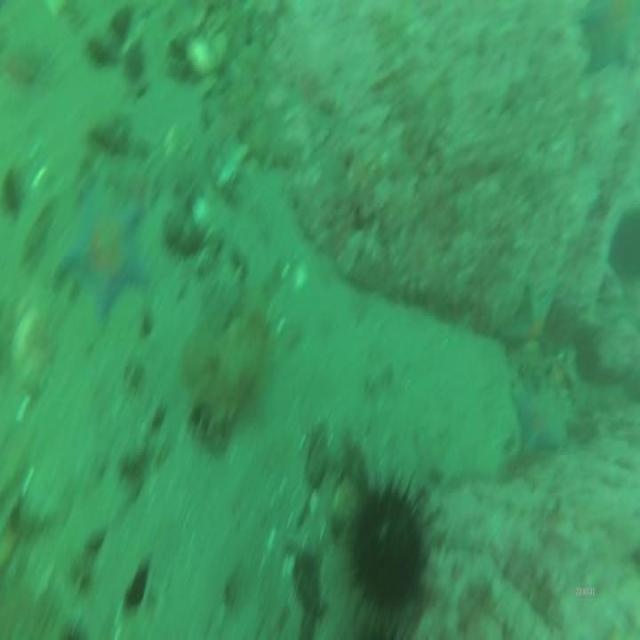echinus: (342, 462, 442, 632)
holothurian: (183, 291, 271, 442), (224, 41, 306, 177)
starfish: (58, 187, 154, 326), (510, 368, 572, 463)
